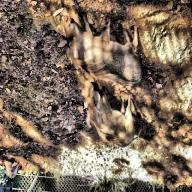boar: (67, 30, 156, 81), (86, 92, 146, 153)
